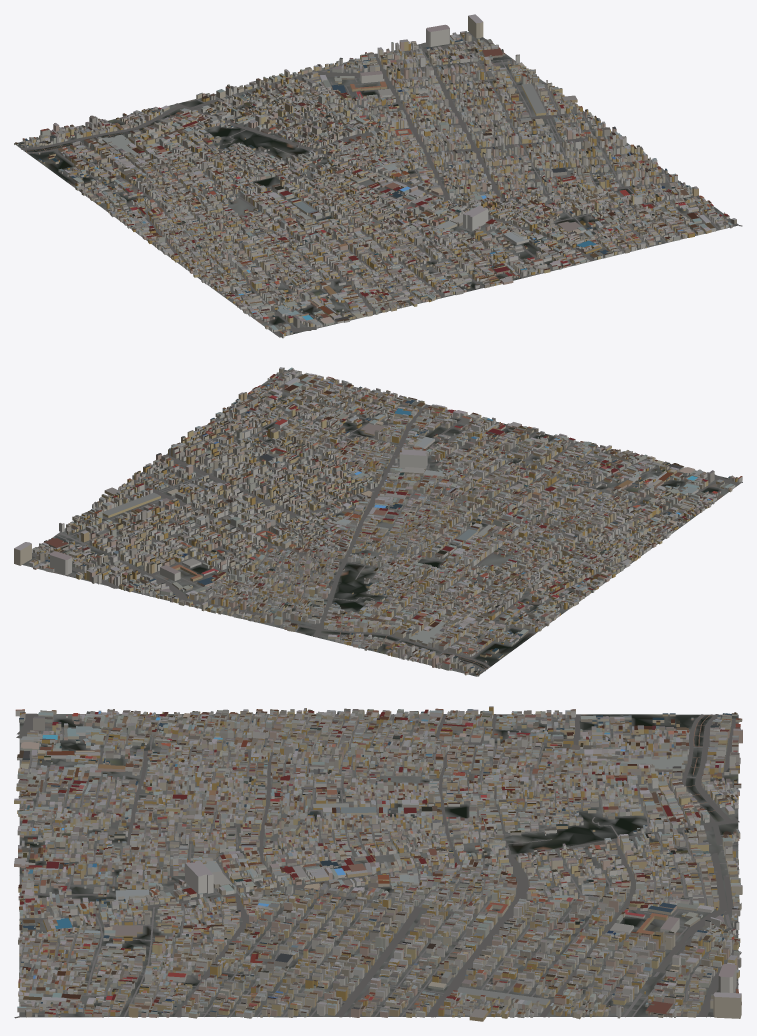
3 renders of one model, top to bottom at view 1: azimuth 30°, elevation 25°; view 2: azimuth 150°, elevation 25°; view 3: azimuth 270°, elevation 25°, orthographic. The views are drawn at different scales.
Parts seen in each view (by area): view 1: buildings, ground, roads; view 2: buildings, ground, roads; view 3: buildings, ground, roads.
Boxes of the visible parts, box(x1,y1,x2,y2) form: buildings: box(14, 14, 736, 338); ground: box(16, 32, 738, 337); roads: box(21, 34, 742, 337); buildings: box(14, 367, 742, 676); ground: box(22, 369, 742, 676); roads: box(32, 367, 742, 674); buildings: box(14, 706, 742, 1021); ground: box(19, 714, 738, 1017); roads: box(14, 713, 741, 1018).
Bounding box in the file's own units: 1427 × 49.88 × 1420.
